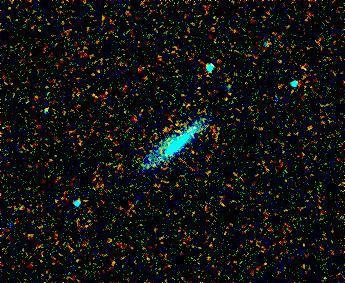star: (177, 136, 207, 166)
